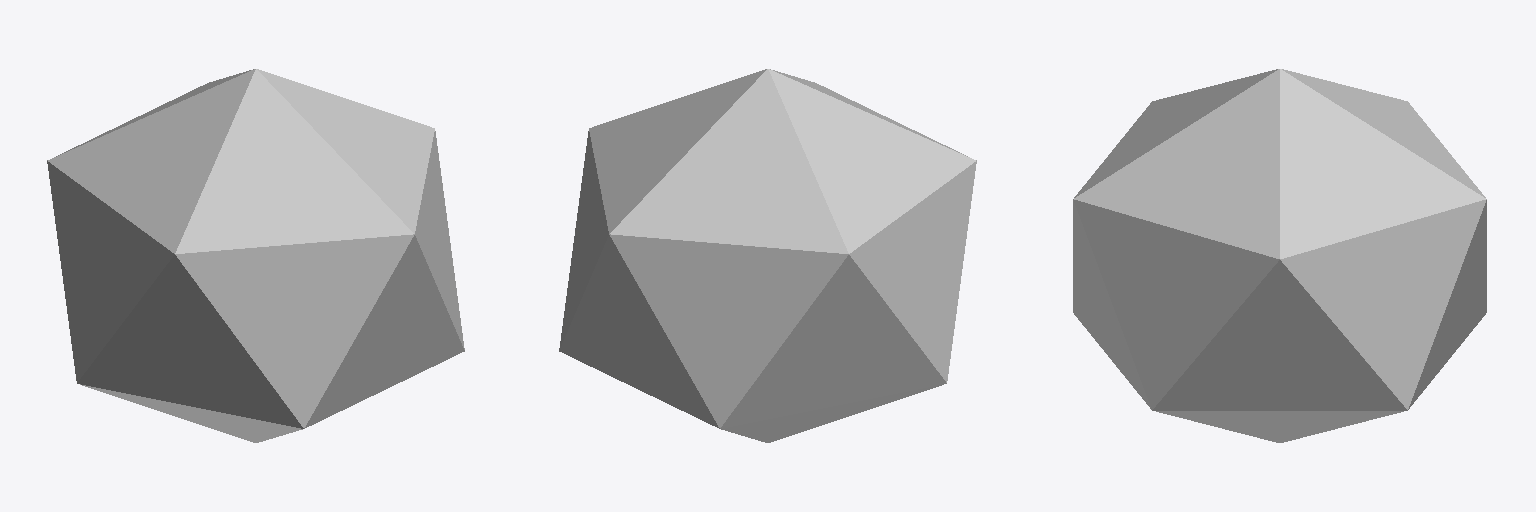
File: bomb.obj
The picture shows the model from 3 angles: view 1: azimuth 30°, elevation 25°; view 2: azimuth 150°, elevation 25°; view 3: azimuth 270°, elevation 25°; orthographic projection.
Visible parts, largest first — view 1: Icosphere_Icosphere.001; view 2: Icosphere_Icosphere.001; view 3: Icosphere_Icosphere.001.
Boxes of the visible parts, x1,y1,x2,y2 form: Icosphere_Icosphere.001: [47, 69, 464, 442]; Icosphere_Icosphere.001: [559, 69, 976, 442]; Icosphere_Icosphere.001: [1073, 69, 1486, 442].
Size of the model in its own units: 1 by 1 by 1.